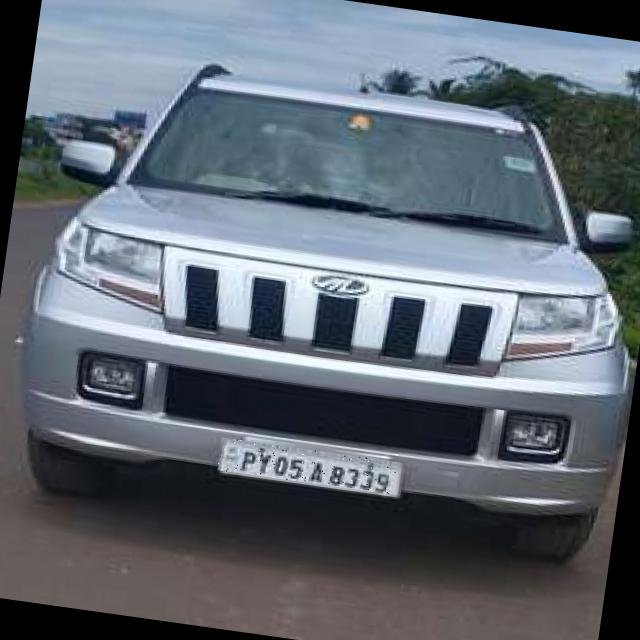Plate: (218, 439, 401, 497)
